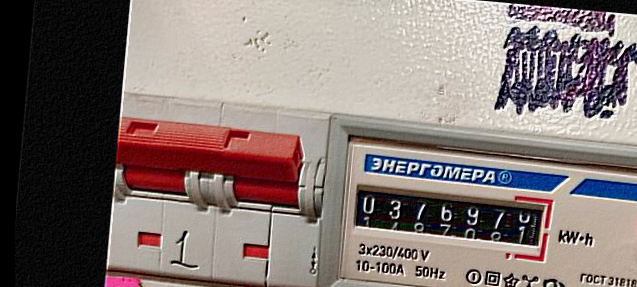0: (360, 191, 376, 215)
1: (515, 223, 528, 244)
3: (388, 198, 404, 220)
6: (439, 198, 456, 223)
7: (413, 197, 430, 222), (490, 206, 507, 230)
9: (465, 203, 481, 226)
screen: (343, 170, 558, 265)
